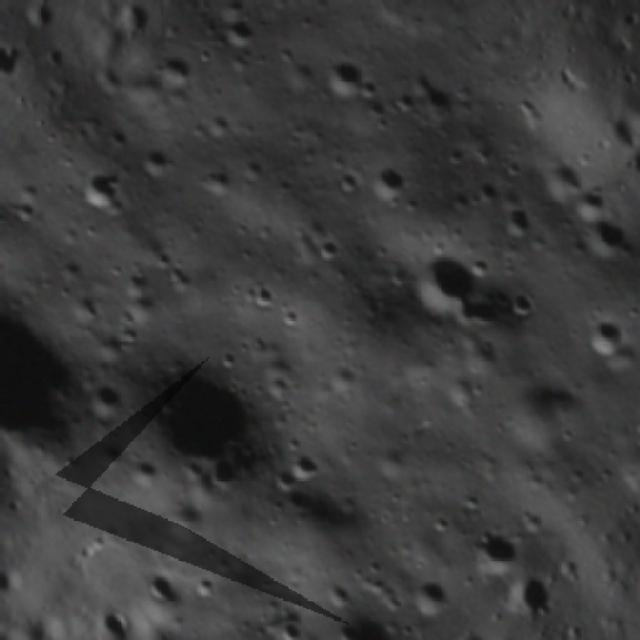crater: (108, 336, 283, 515), (0, 242, 117, 463), (391, 228, 489, 324), (455, 517, 534, 592), (569, 201, 640, 273), (439, 281, 510, 348), (66, 159, 132, 224), (398, 565, 464, 630), (530, 149, 596, 213), (150, 38, 210, 100), (558, 176, 619, 236), (274, 472, 334, 532), (574, 306, 634, 365), (186, 152, 243, 211), (76, 374, 133, 431), (360, 153, 417, 210), (330, 601, 412, 640), (135, 563, 190, 620), (322, 50, 376, 105), (269, 46, 323, 99), (127, 139, 179, 193), (281, 442, 330, 491), (0, 186, 49, 234), (238, 272, 287, 319), (119, 451, 167, 498), (212, 9, 259, 57), (319, 356, 366, 402), (251, 364, 297, 410), (64, 282, 110, 328), (97, 64, 145, 108), (494, 201, 538, 245), (323, 160, 366, 203), (52, 246, 94, 288), (504, 280, 545, 323), (261, 455, 302, 497), (308, 228, 349, 269), (512, 500, 552, 542), (184, 568, 222, 608), (209, 341, 248, 379), (468, 172, 506, 210), (272, 297, 310, 335), (269, 612, 311, 640), (626, 424, 640, 461), (624, 405, 640, 437)
